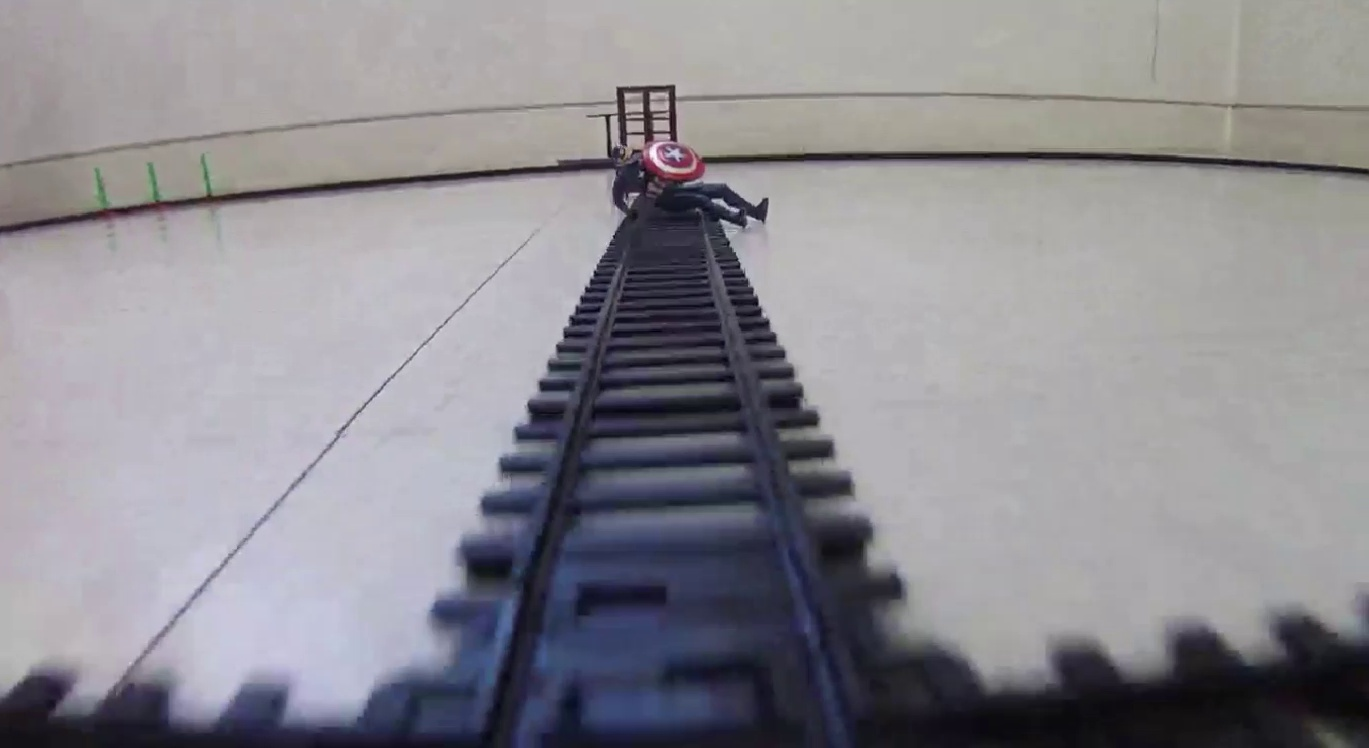people: (613, 139, 770, 228)
